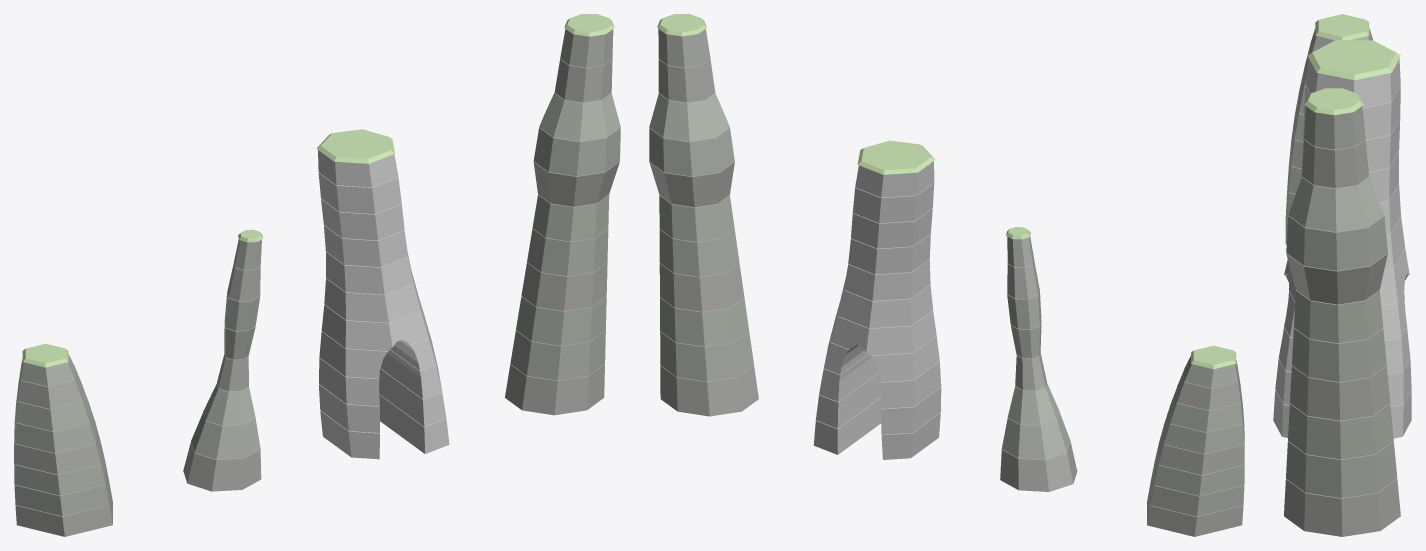
Rendered from sea-stack-set.glb.
3 views of the same model, side by side, from view 1: azimuth 30°, elevation 25°; view 2: azimuth 150°, elevation 25°; view 3: azimuth 270°, elevation 25° (orthographic). The views are drawn at different scales.
Visible parts, largest first — view 1: stack_40_tapered_block_courses, stack_32_tapered_block_courses, stack_18_tapered_block_courses, stack_26_tapered_block_courses, stack_32_moss_cap, stack_40_moss_cap, stack_18_moss_cap; view 2: stack_40_tapered_block_courses, stack_32_tapered_block_courses, stack_18_tapered_block_courses, stack_26_tapered_block_courses, stack_32_moss_cap, stack_40_moss_cap, stack_18_moss_cap; view 3: stack_40_tapered_block_courses, stack_32_tapered_block_courses, stack_32_moss_cap, stack_18_tapered_block_courses, stack_40_moss_cap, stack_18_moss_cap.
Part boxes in pixels (x1=…): stack_40_tapered_block_courses: x1=505, y1=29, x2=620, y2=415; stack_32_tapered_block_courses: x1=318, y1=150, x2=449, y2=459; stack_18_tapered_block_courses: x1=14, y1=354, x2=112, y2=536; stack_26_tapered_block_courses: x1=183, y1=239, x2=261, y2=491; stack_32_moss_cap: x1=316, y1=129, x2=394, y2=163; stack_40_moss_cap: x1=564, y1=14, x2=614, y2=36; stack_18_moss_cap: x1=22, y1=343, x2=68, y2=367; stack_40_tapered_block_courses: x1=649, y1=29, x2=758, y2=416; stack_32_tapered_block_courses: x1=813, y1=161, x2=941, y2=459; stack_18_tapered_block_courses: x1=1147, y1=356, x2=1244, y2=536; stack_26_tapered_block_courses: x1=1000, y1=236, x2=1077, y2=491; stack_32_moss_cap: x1=857, y1=140, x2=935, y2=174; stack_40_moss_cap: x1=657, y1=14, x2=706, y2=36; stack_18_moss_cap: x1=1191, y1=345, x2=1236, y2=369; stack_40_tapered_block_courses: x1=1284, y1=106, x2=1400, y2=536; stack_32_tapered_block_courses: x1=1273, y1=58, x2=1411, y2=438; stack_32_moss_cap: x1=1307, y1=40, x2=1400, y2=80; stack_18_tapered_block_courses: x1=1285, y1=28, x2=1372, y2=244; stack_40_moss_cap: x1=1304, y1=88, x2=1363, y2=115; stack_18_moss_cap: x1=1315, y1=14, x2=1369, y2=40.
Bounding box in the file's own units: 68.53 × 40 × 11.64.
